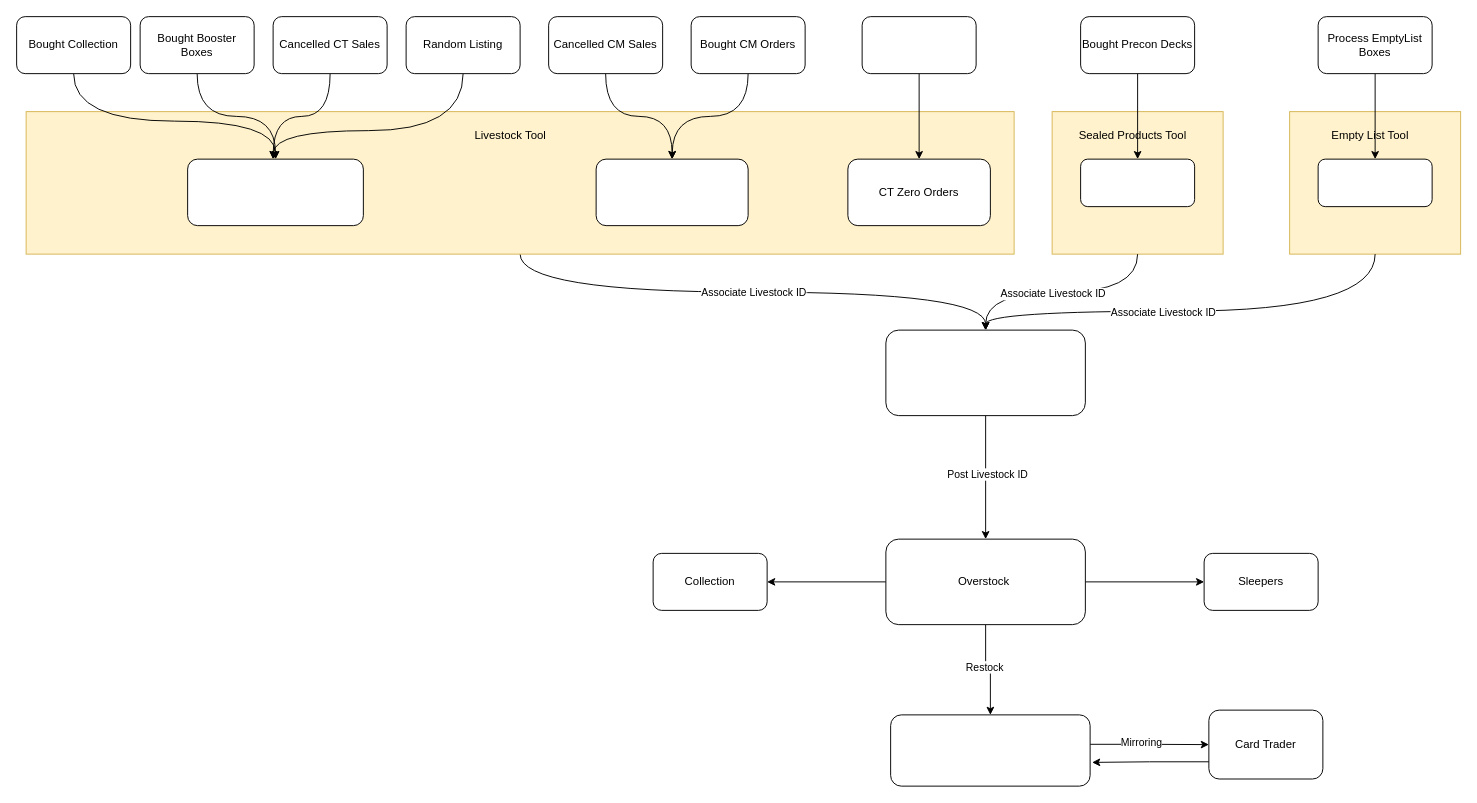
The diagram is 1477 pixels wide and 803 high, and some of its shapes have lost their labels. Each missing label, with the box of its shape:
Bought CT Orders: (861, 16, 976, 74)
CardMarket: (890, 714, 1090, 786)
CM Orders: (595, 158, 748, 226)
EmptyList Picking: (1317, 158, 1432, 207)
Livestock: (885, 329, 1085, 416)
Manual input: (187, 158, 363, 226)
Precon Decks Opening: (1080, 158, 1195, 207)
